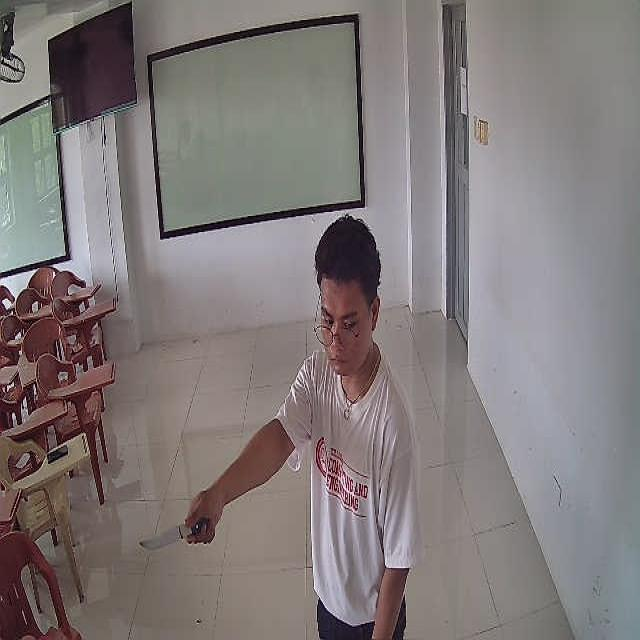knife: (139, 517, 208, 551)
